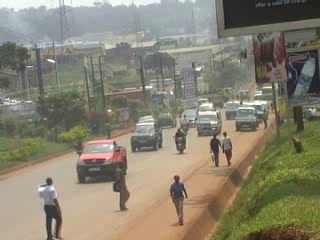Car: (156, 111, 178, 129), (137, 114, 158, 131), (180, 107, 197, 127)
Motorcycle: (171, 129, 186, 153), (180, 117, 191, 135)
